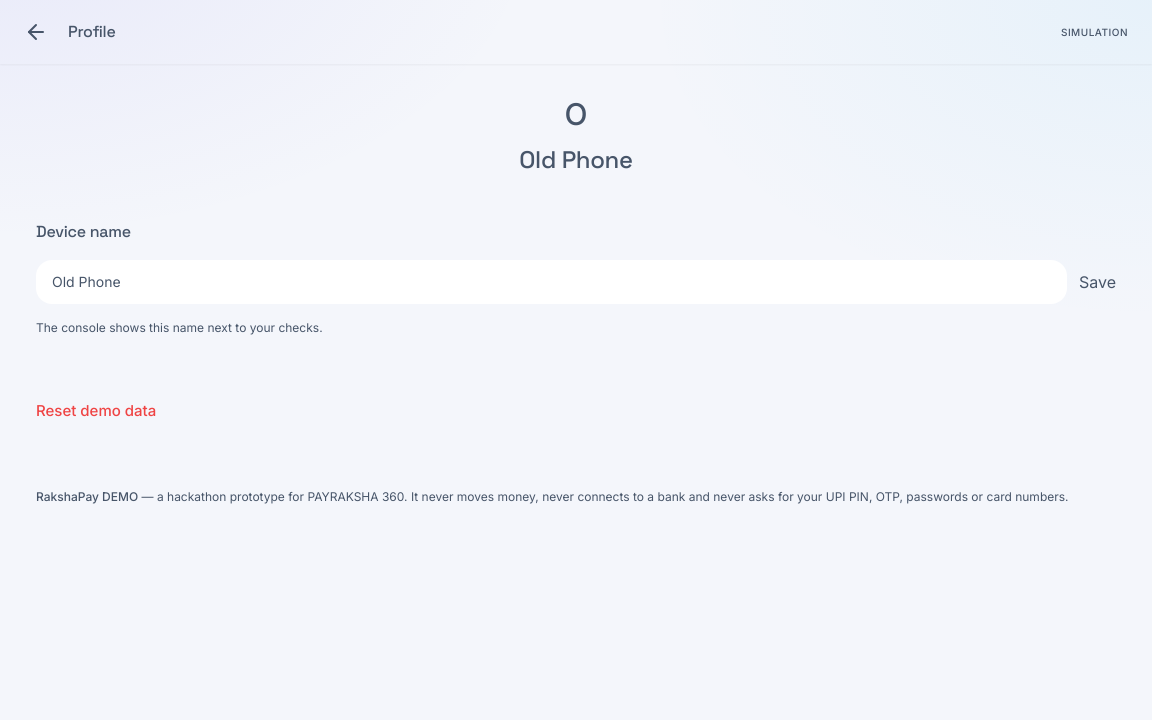
Test: Profile Screen › updates device name
Step 1. Replace the text in the field named "Device name" with "New Phone  " → (552,282), box [36, 260, 1067, 304]
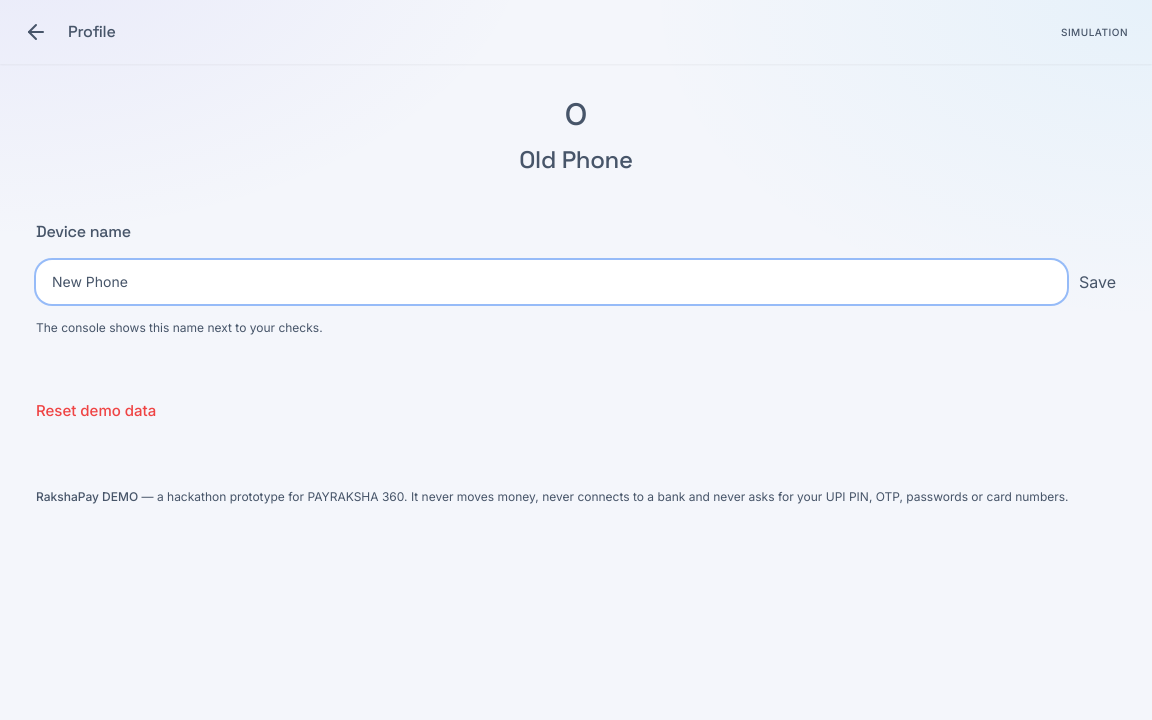
Step 2. Click the button "Save" → (1098,282), box [1079, 260, 1116, 304]
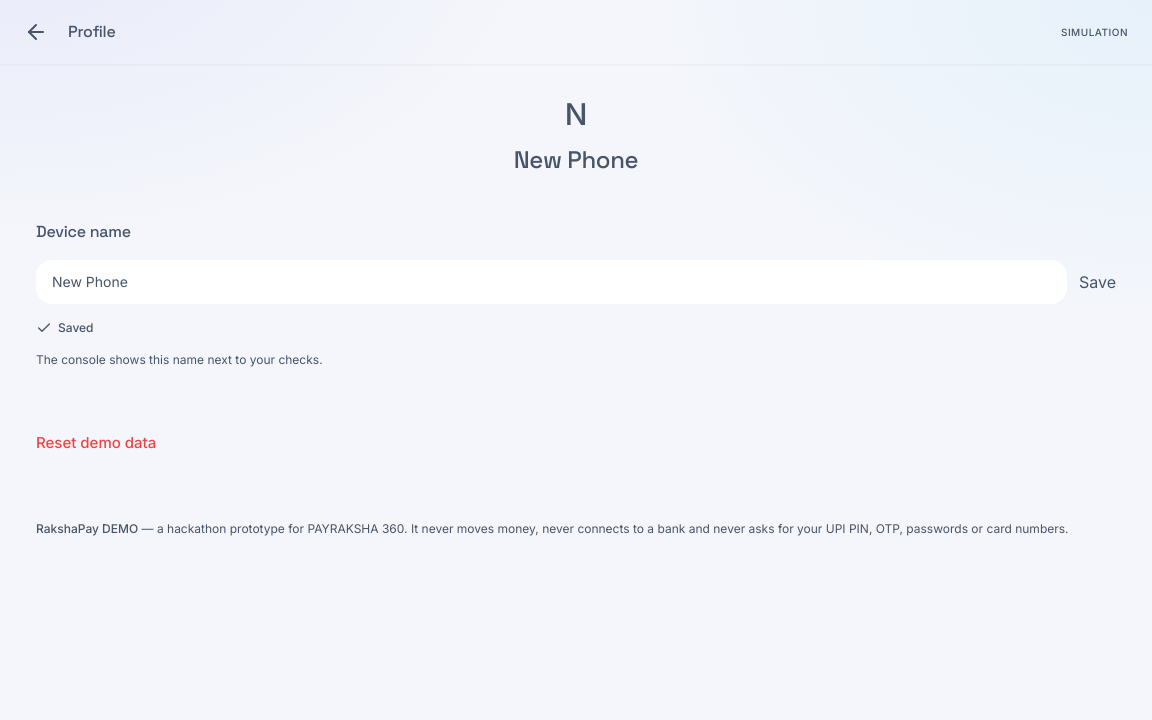
Expected: the message reads "Saved", [58, 320, 94, 335]
Expected: the heading "New Phone" is shown, [514, 144, 638, 176]
